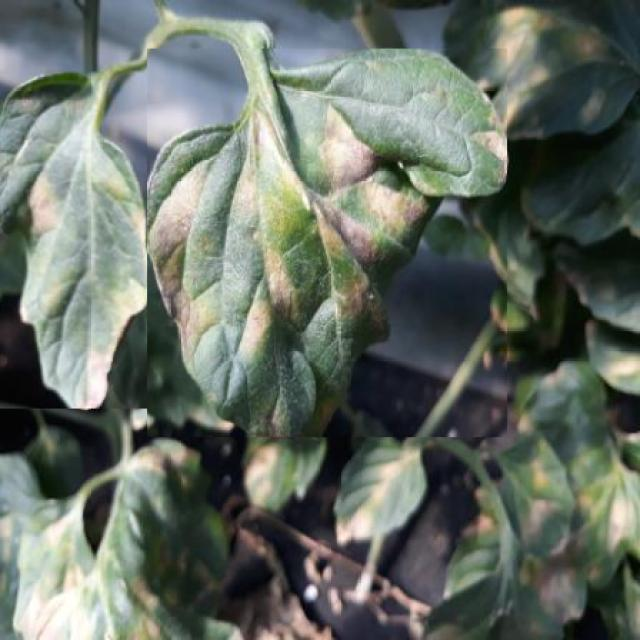Leaf Mold: (148, 49, 508, 437), (0, 71, 147, 408)
